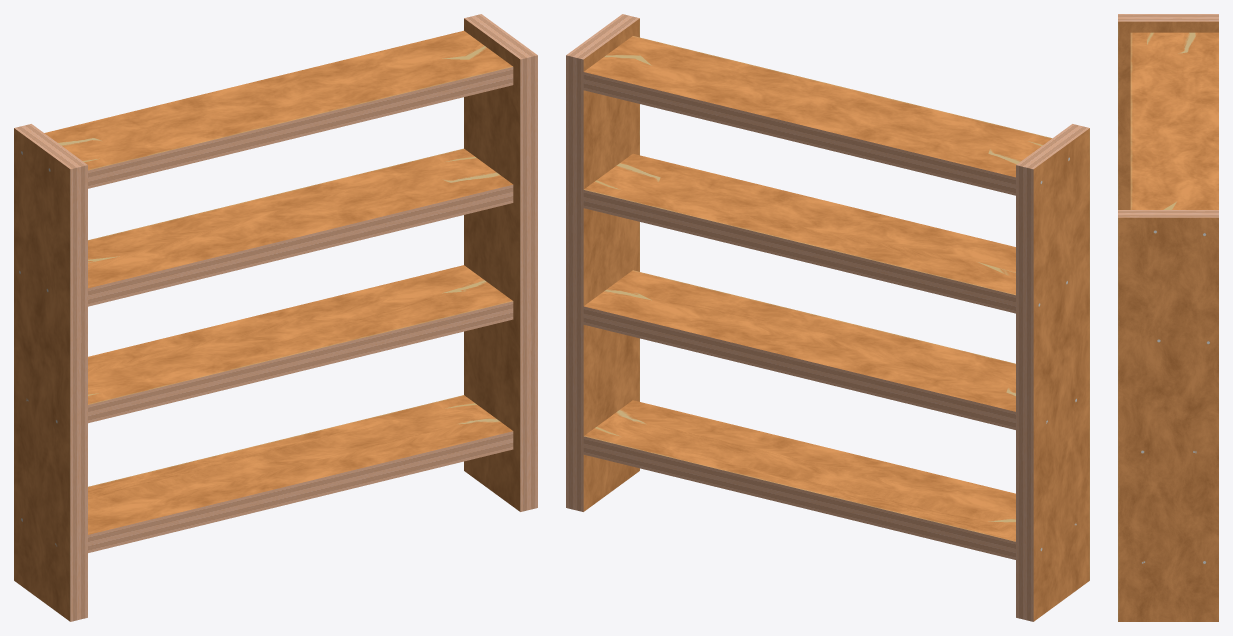
Rendered from Shelf_2.fbx.
3 views of the same model, side by side, from view 1: azimuth 30°, elevation 25°; view 2: azimuth 150°, elevation 25°; view 3: azimuth 270°, elevation 25° (orthographic). The views are drawn at different scales.
Parts seen in each view (by area): view 1: Shelf_2; view 2: Shelf_2; view 3: Shelf_2.
Part boxes in pixels (x1,y1,x2,y2): Shelf_2: [14, 14, 537, 621]; Shelf_2: [566, 14, 1089, 621]; Shelf_2: [1118, 14, 1218, 621].
Size of the model in its own units: 2.16 by 2 by 0.452.
